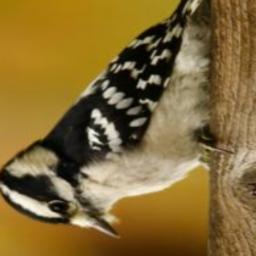Woodpecker: (0, 0, 230, 240)
